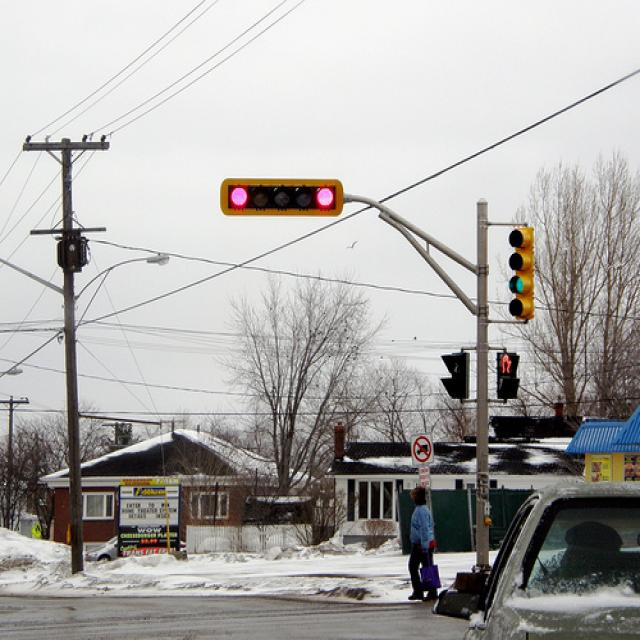Vehicle: (462, 482, 640, 640)
